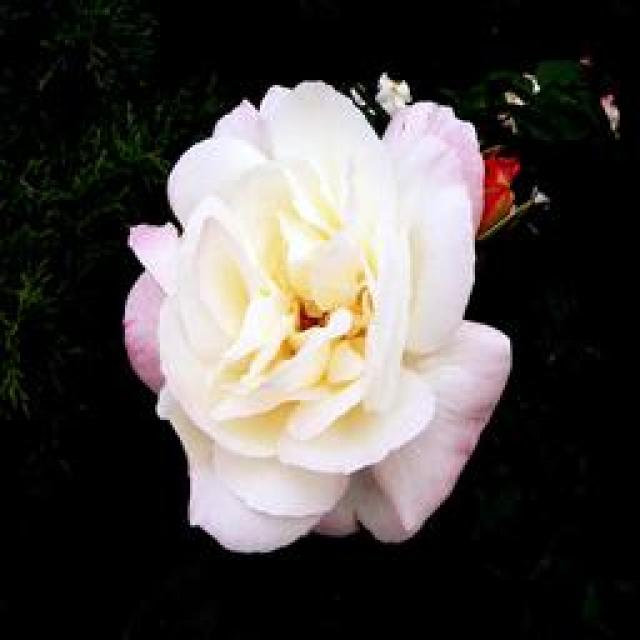rose: (79, 61, 586, 574)
